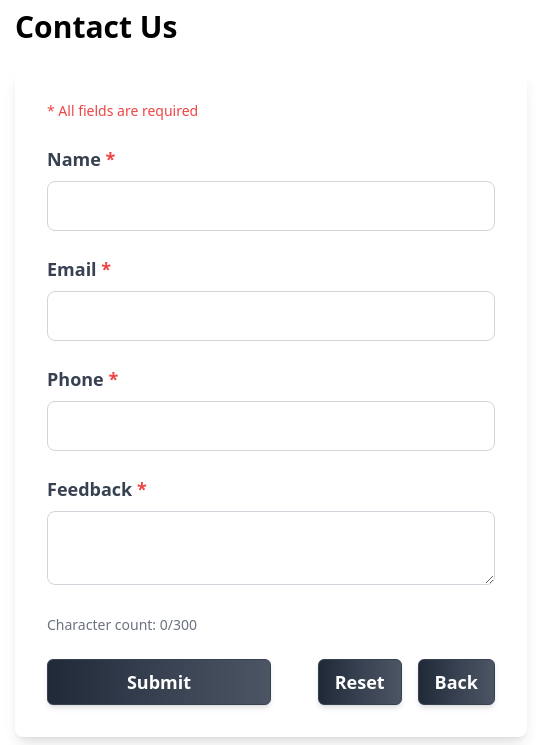
Scenario: Contact › validates form and displays error messages
Click the button "Submit". click: (159, 682)
box: [47,659,271,705]
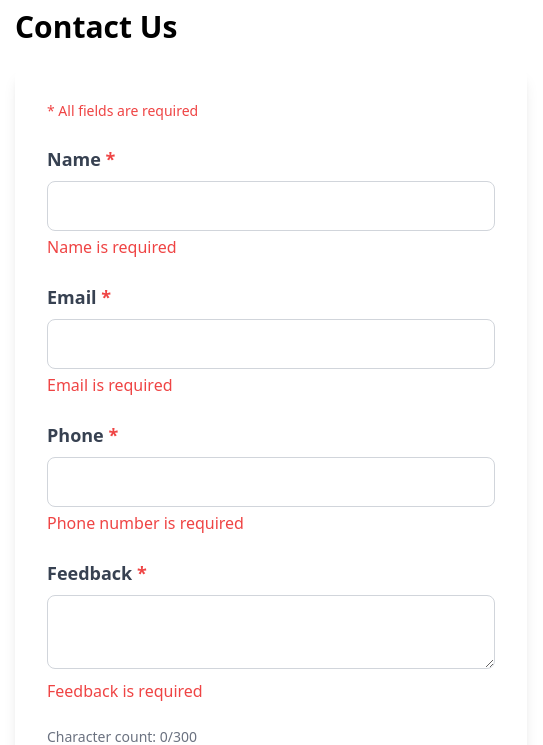
Expected: the text "Name is required" is shown, [47,236,177,258]
Expected: the text "Email is required" is shown, [47,374,172,396]
Expected: the text "Phone number is required" is shown, [47,512,244,534]
